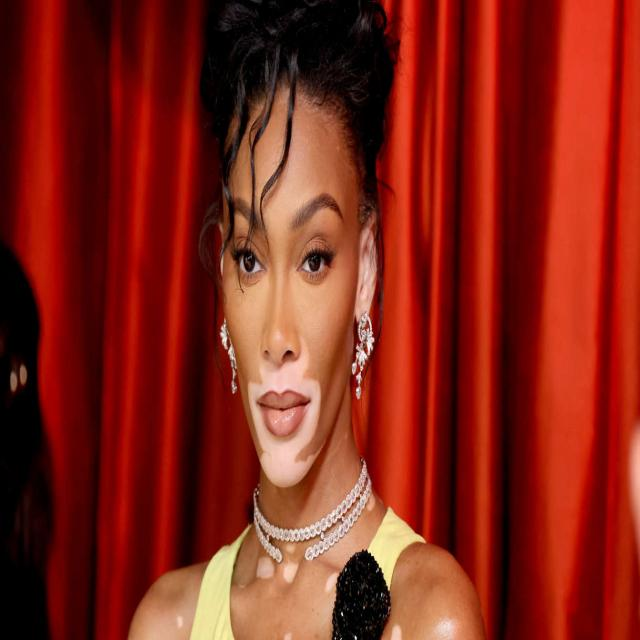vitiligo: (240, 332, 328, 478), (254, 542, 304, 594)
